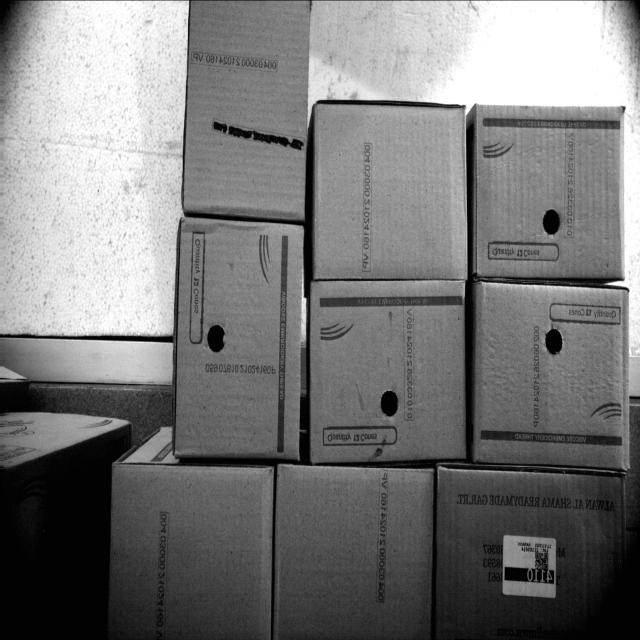cardboxes: (428, 463, 628, 639), (167, 220, 302, 466), (472, 277, 634, 474), (307, 283, 474, 467), (276, 457, 436, 639), (109, 466, 276, 639), (474, 105, 628, 292), (179, 0, 311, 217), (314, 97, 467, 280), (341, 246, 342, 255)
